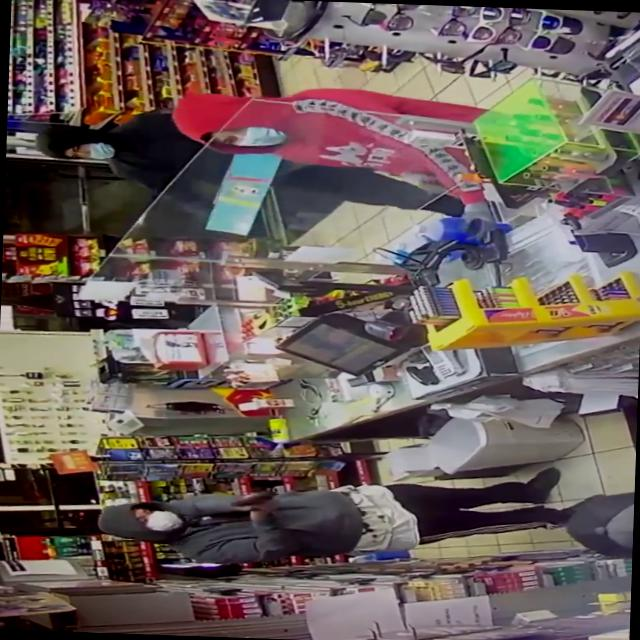handgun: (222, 487, 280, 509)
